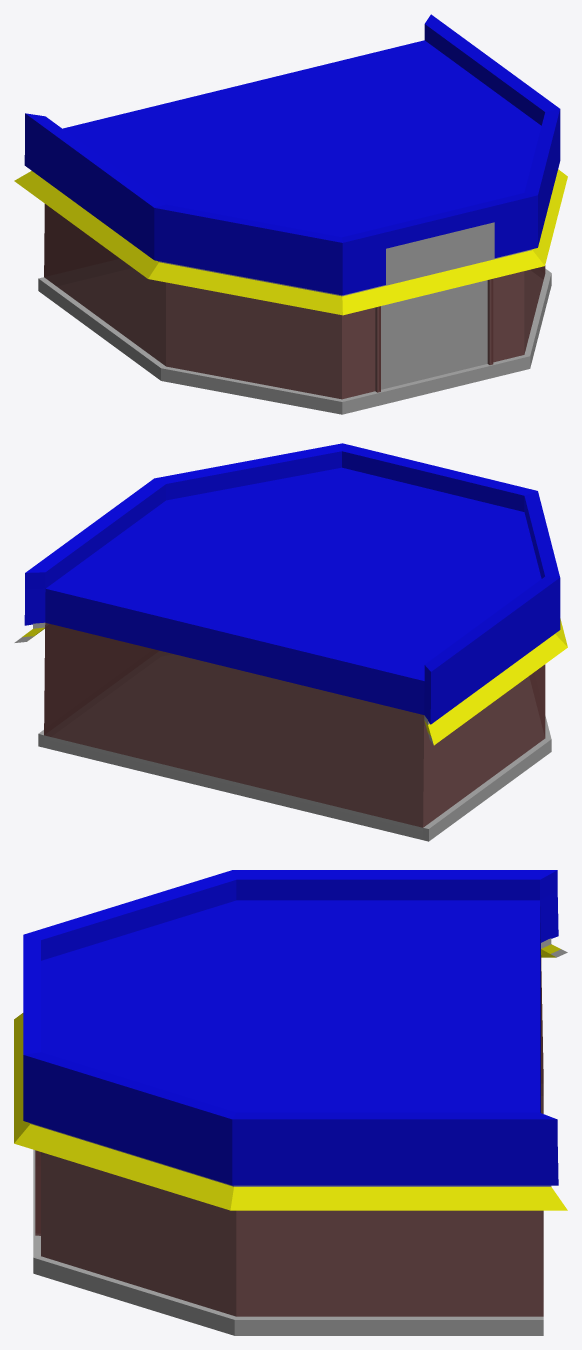
File: Bake_shop_v002.fbx
3 renders of one model, top to bottom at view 1: azimuth 30°, elevation 25°; view 2: azimuth 150°, elevation 25°; view 3: azimuth 270°, elevation 25°, orthographic. The views are drawn at different scales.
Parts seen in each view (by area): view 1: pCube1; view 2: pCube1; view 3: pCube1.
Boxes of the visible parts, x1=… form: pCube1: x1=14, y1=14, x2=567, y2=414; pCube1: x1=14, y1=443, x2=567, y2=841; pCube1: x1=14, y1=870, x2=567, y2=1335.
Bounding box in the file's own units: 7.07 × 2.83 × 6.42.
